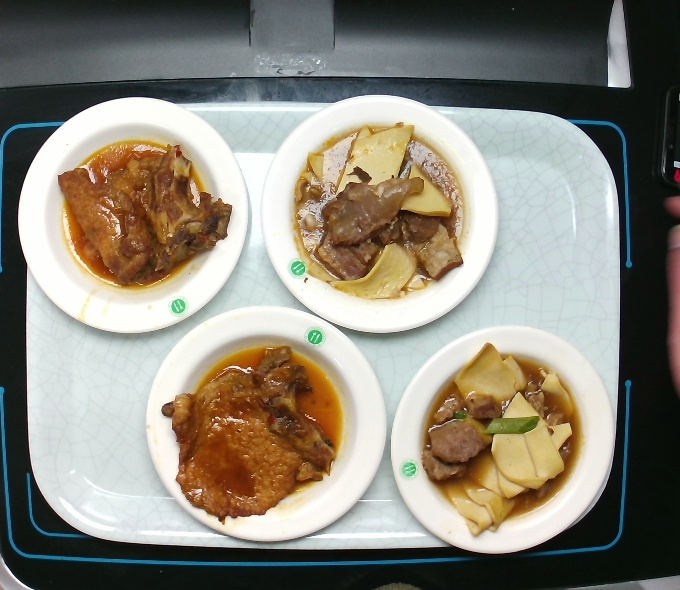wcq-DaPai: (159, 353, 335, 526), (62, 154, 241, 290)
wcq-QianZhangNiuRou: (407, 347, 594, 528), (289, 132, 476, 313)
